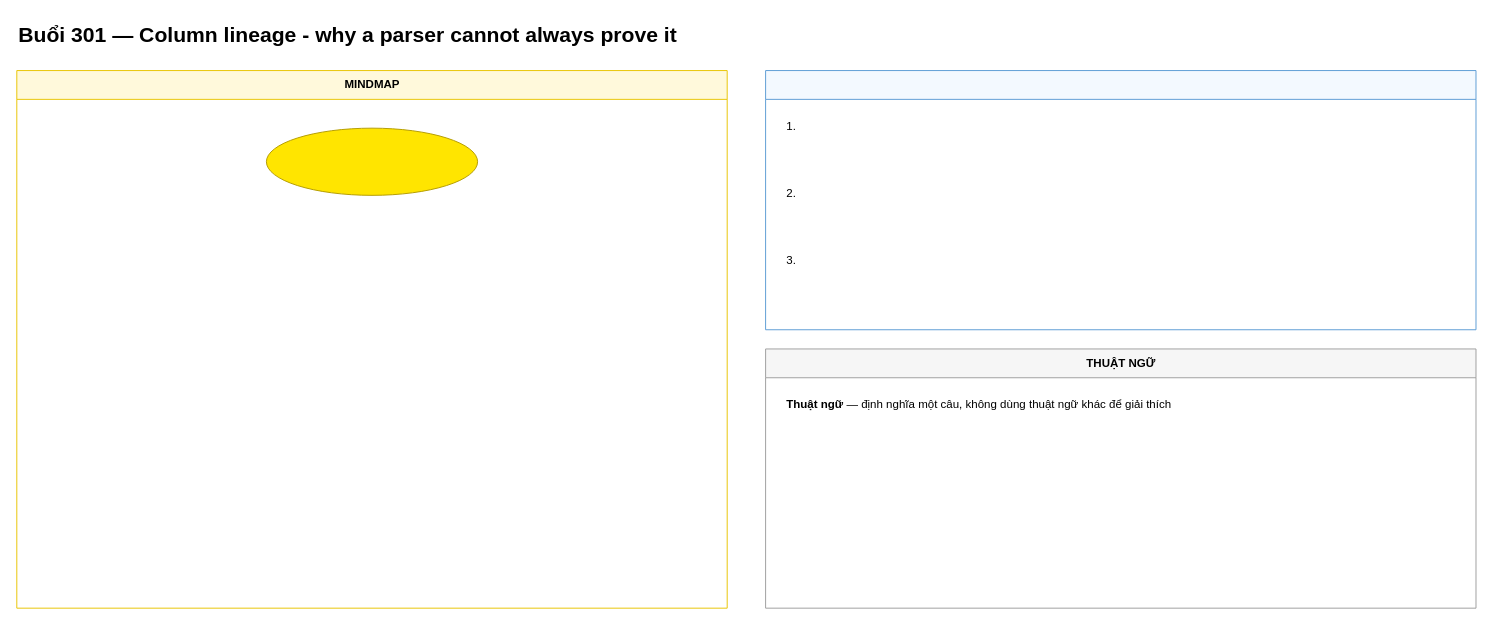
Image size: 1493x625. Some labels were removed from this diagram. Here are the shapes that lost their labels. From the top down, the box of each, then its label:
(265, 127, 478, 195): Column lineage - why a parser cannot always prove it
(765, 70, 1476, 330): KEY TAKEAWAY — ba điều phải nhớ
